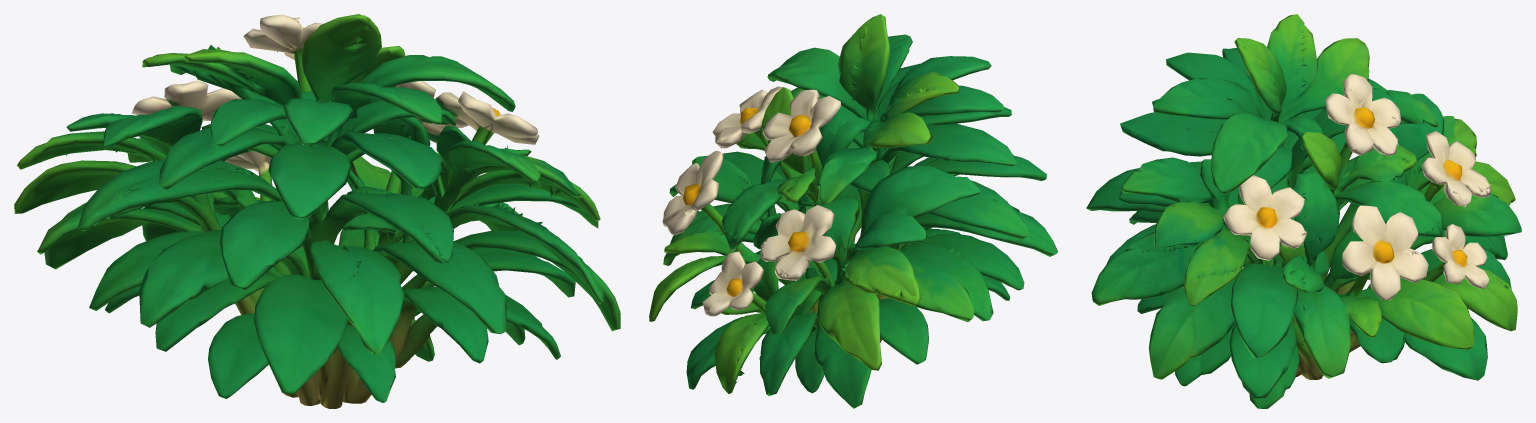
Rendered from compact.glb.
The picture shows the model from 3 angles, left to right: view 1: azimuth 30°, elevation 25°; view 2: azimuth 150°, elevation 25°; view 3: azimuth 270°, elevation 25°; orthographic projection. The views are drawn at different scales.
Parts seen in each view (by area): view 1: tripo_node_1bf24f85-bc24-44a5-b9d8-a75fb9977e6f; view 2: tripo_node_1bf24f85-bc24-44a5-b9d8-a75fb9977e6f; view 3: tripo_node_1bf24f85-bc24-44a5-b9d8-a75fb9977e6f.
Boxes of the visible parts, <box> form: tripo_node_1bf24f85-bc24-44a5-b9d8-a75fb9977e6f: <box>14,14,620,408</box>; tripo_node_1bf24f85-bc24-44a5-b9d8-a75fb9977e6f: <box>649,14,1057,408</box>; tripo_node_1bf24f85-bc24-44a5-b9d8-a75fb9977e6f: <box>1086,14,1521,408</box>.
Size of the model in its own units: 0.9849 by 0.7898 by 0.962.
Materials: 1 (1 with a texture image).
